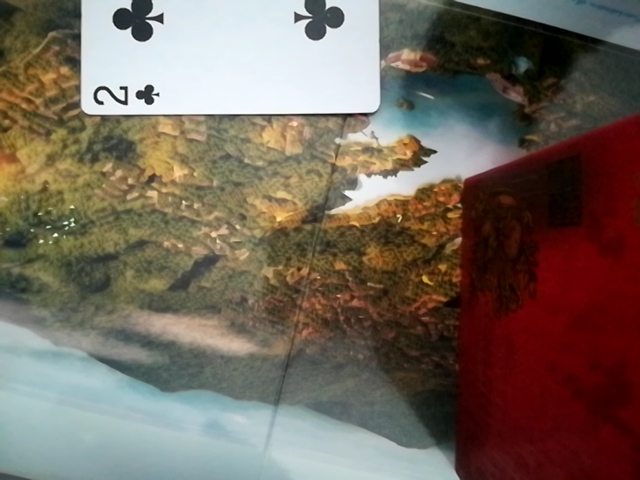mh 2: (77, 5, 386, 125)
